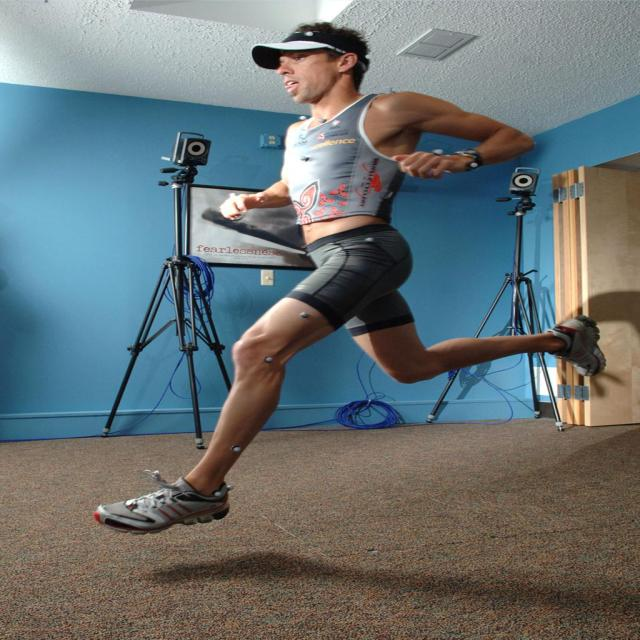Face: (268, 37, 344, 114)
